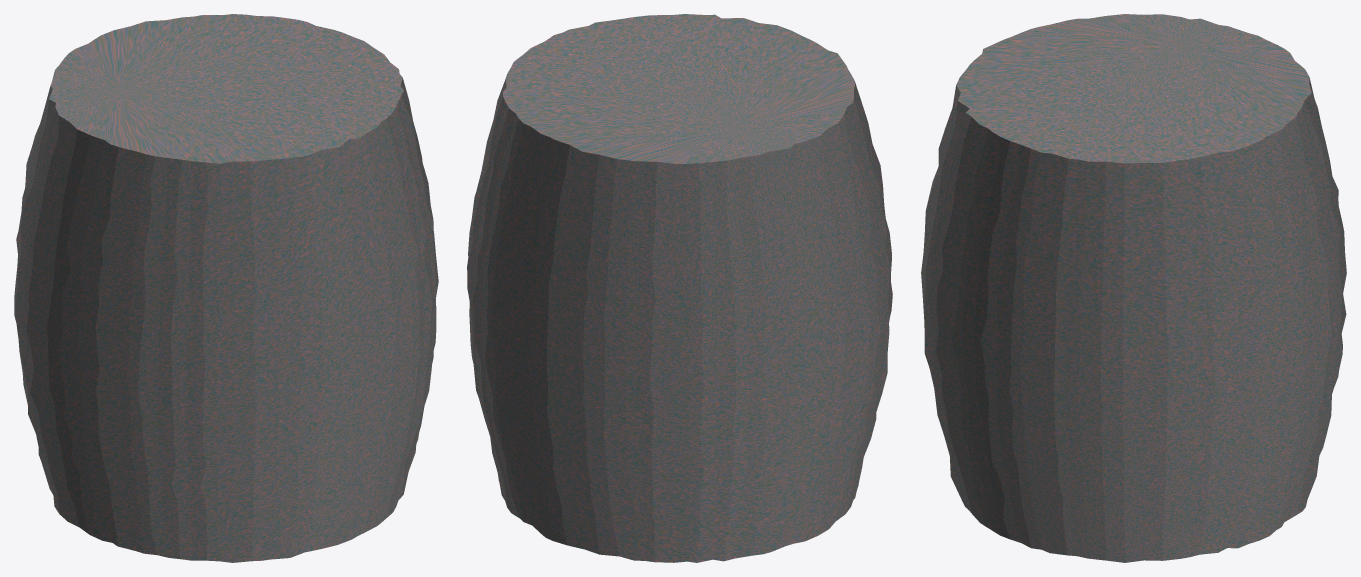
Rendered from barrel_1.dae.
The picture shows the model from 3 angles, left to right: view 1: azimuth 30°, elevation 25°; view 2: azimuth 150°, elevation 25°; view 3: azimuth 270°, elevation 25°; orthographic projection.
Visible parts, largest first — view 1: Cylinder; view 2: Cylinder; view 3: Cylinder.
Part boxes in pixels (left/top/right/bottom): Cylinder: left=14, top=14, right=438, bottom=562; Cylinder: left=467, top=14, right=892, bottom=562; Cylinder: left=921, top=14, right=1346, bottom=562.
Size of the model in its own units: 0.9748 by 0.969 by 1.
Materials: 1 (1 with a texture image).
